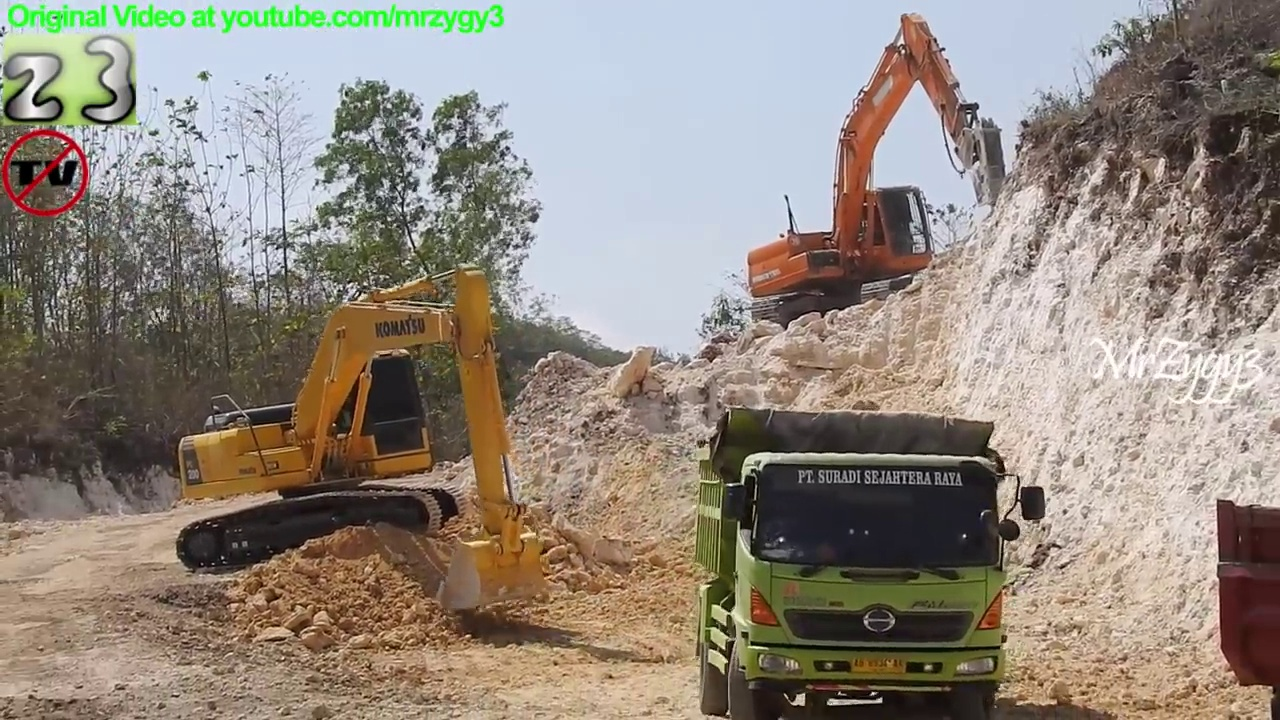excavator: (172, 257, 558, 623), (741, 5, 1013, 337)
truck: (688, 400, 1050, 720), (1212, 492, 1280, 720)
